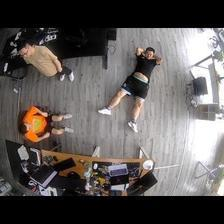fall: (97, 45, 163, 133)
normal: (16, 40, 74, 82), (16, 105, 74, 140)
